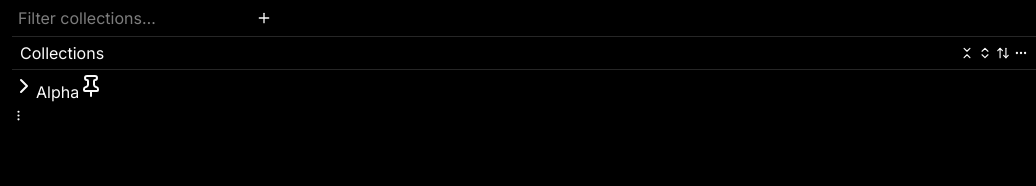
Test: SidebarShell › expand all reveals collapsed collections' children
Check: the text "Req1" is not shown
What coordinates should you click on to do the following:
click the button named "expand all"
I would click on:
 (985, 53)
Its box is left=978, top=46, right=992, bottom=60.
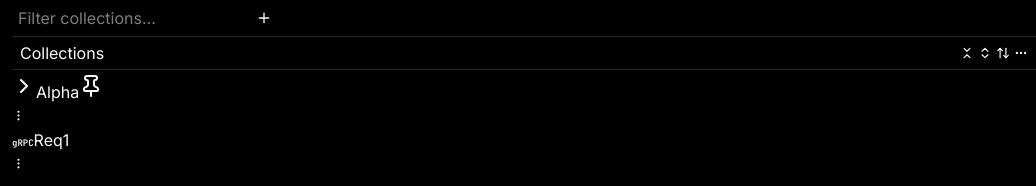
Check: the text "Req1" is shown, box left=34, top=130, right=69, bottom=150
